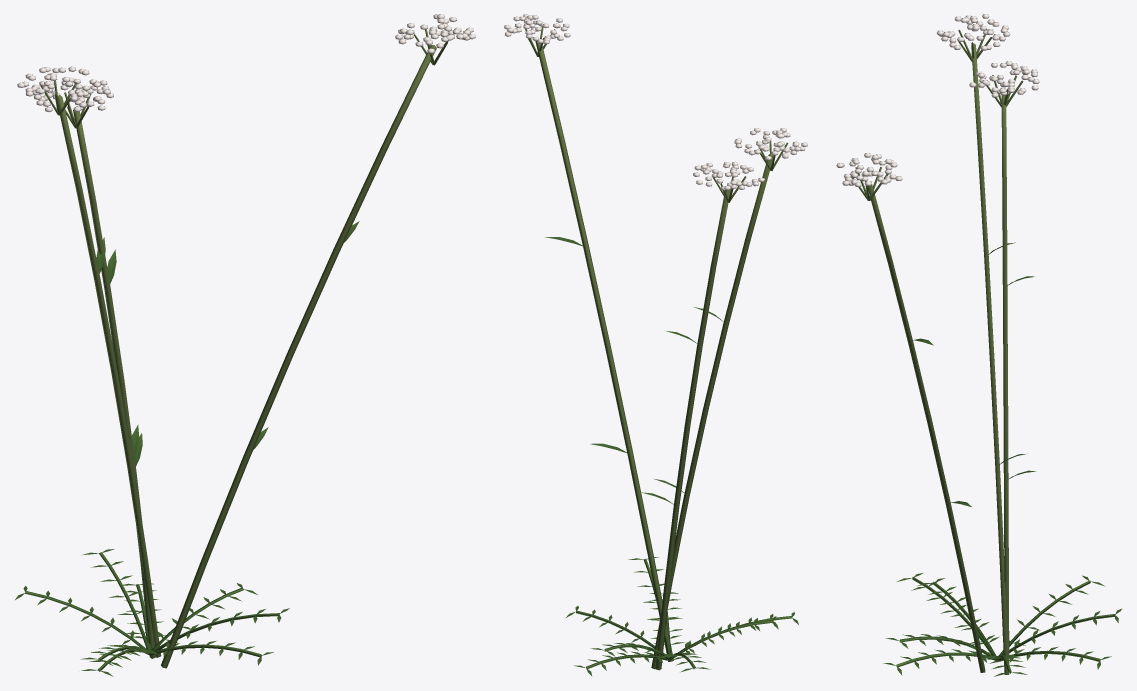
File: yarrow.glb
The picture shows the model from 3 angles, left to right: view 1: azimuth 30°, elevation 25°; view 2: azimuth 150°, elevation 25°; view 3: azimuth 270°, elevation 25°; orthographic projection. The views are drawn at different scales.
Visible parts, largest first — view 1: yarrow; view 2: yarrow; view 3: yarrow.
Part boxes in pixels (x1,y1,x2,y2): yarrow: (15,14,475,676); yarrow: (504,14,807,676); yarrow: (836,14,1121,676).
Size of the model in its own units: 0.4584 by 0.7118 by 0.3045.
Materials: 1 (1 with a texture image).
